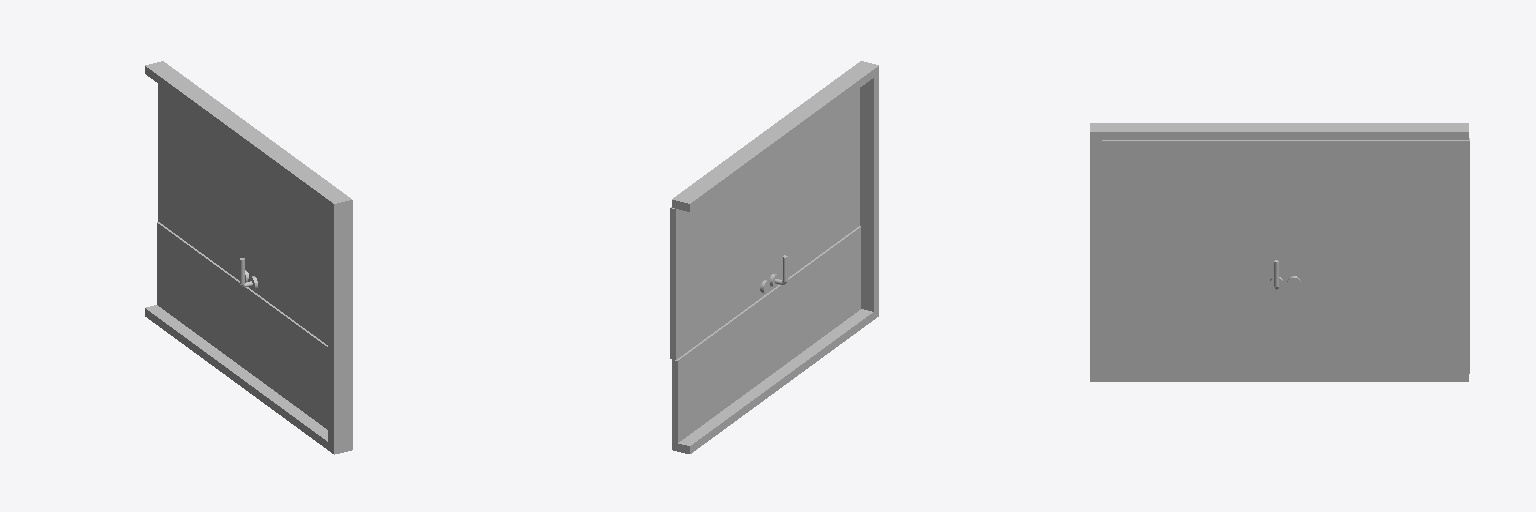
The model's file is door_one_half.obj.
3 renders of one model, left to right at view 1: azimuth 30°, elevation 25°; view 2: azimuth 150°, elevation 25°; view 3: azimuth 270°, elevation 25°, orthographic.
Parts seen in each view (by area): view 1: wrist_door_h21_1.001_Cylinder.032; view 2: wrist_door_h21_1.001_Cylinder.032; view 3: wrist_door_h21_1.001_Cylinder.032.
Part boxes in pixels (bbox=[...]): wrist_door_h21_1.001_Cylinder.032: bbox=[145, 61, 352, 454]; wrist_door_h21_1.001_Cylinder.032: bbox=[670, 61, 878, 453]; wrist_door_h21_1.001_Cylinder.032: bbox=[1090, 123, 1469, 381].
Bounding box in the file's own units: 0.2264 × 1.54 × 2.11.